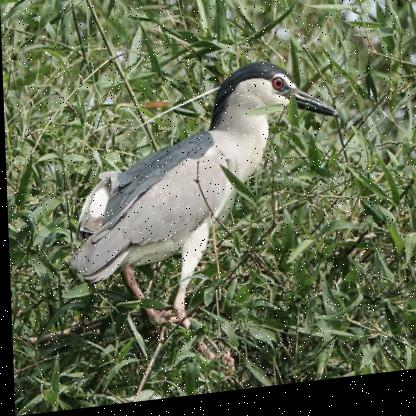Burung: (64, 62, 346, 369)
